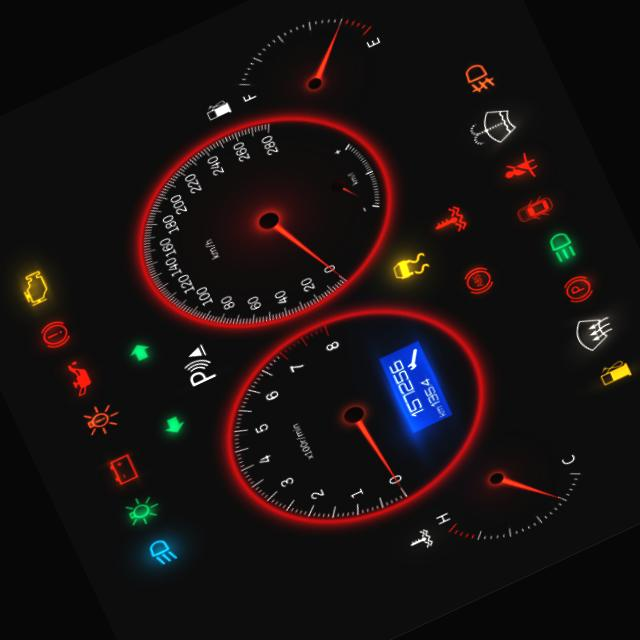kontrolka: (382, 243, 442, 292), (54, 349, 104, 405), (584, 348, 640, 398), (135, 530, 189, 581), (453, 255, 506, 304), (114, 486, 168, 534), (453, 54, 504, 103), (551, 266, 603, 314), (423, 199, 474, 247), (536, 224, 584, 272), (12, 262, 58, 310), (30, 310, 77, 356), (101, 446, 147, 492)
